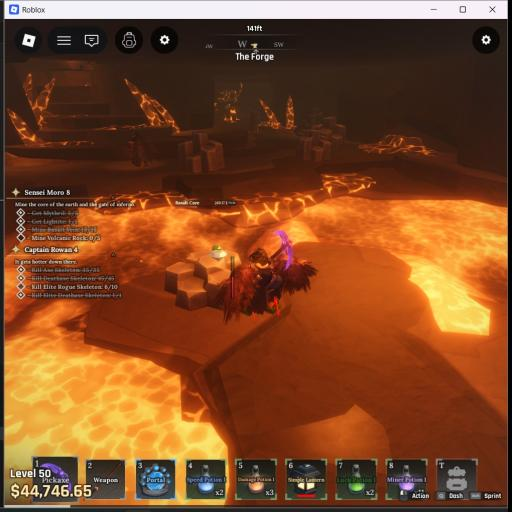player: (215, 231, 317, 323)
rock: (164, 245, 240, 310), (297, 117, 345, 161), (178, 131, 224, 172), (306, 109, 323, 128)
